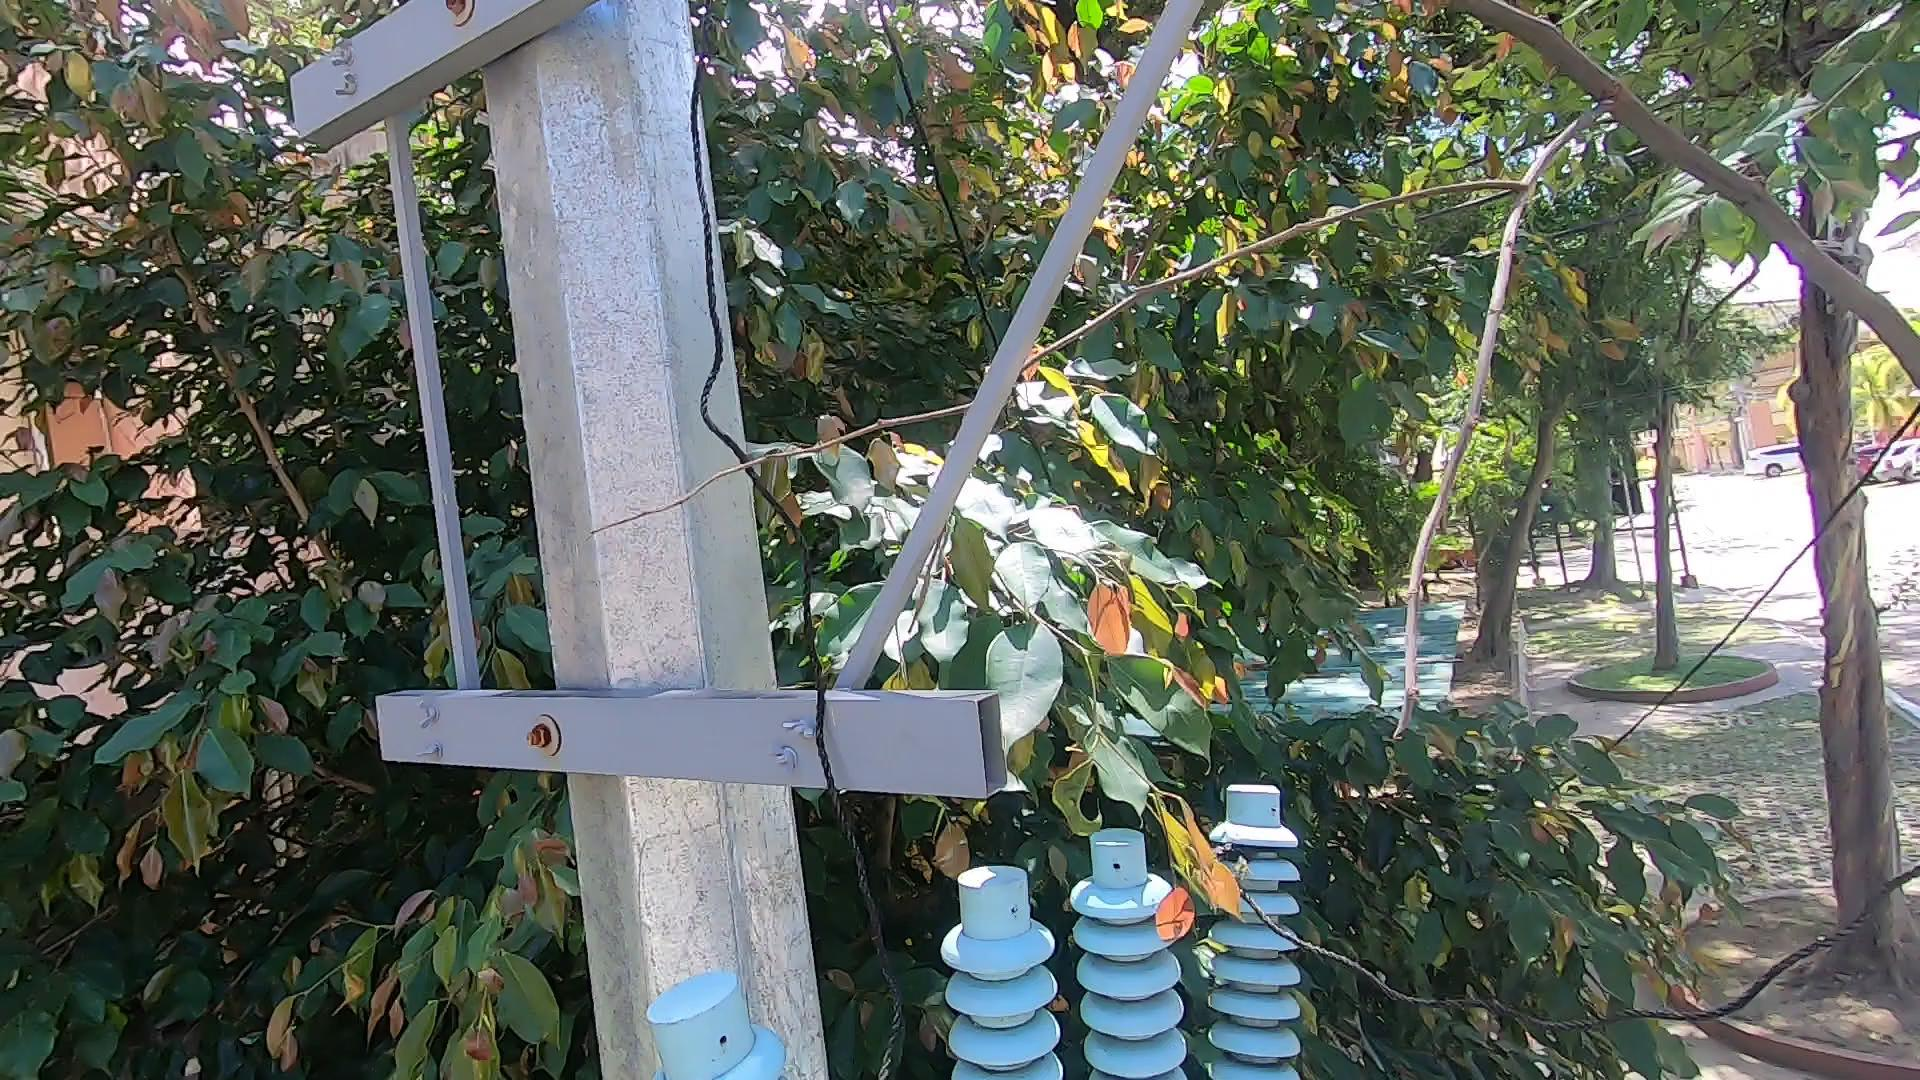branch with leaves: (1127, 771, 1244, 976)
tree branch: (566, 15, 1905, 589)
